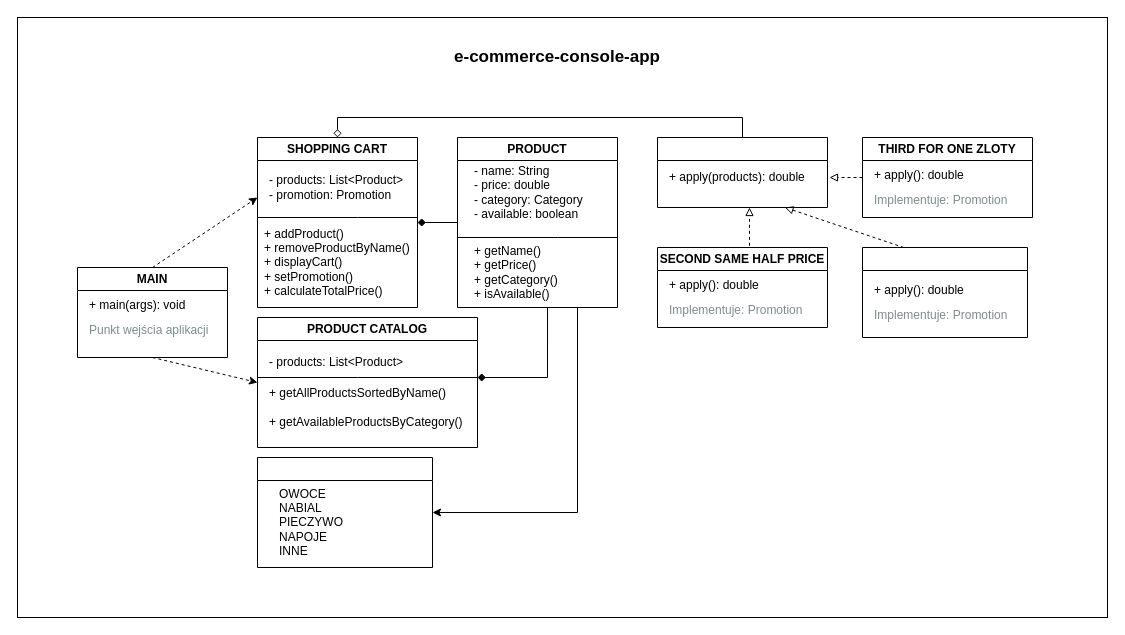
The diagram is 1125 pixels wide and 635 high, and some of its shapes have lost their labels. Here are the shapes that lost their labels. From the top down, the box of each, then its label:
(656, 136, 828, 208): PROMOTION
(862, 246, 1028, 338): TEN PERCENT DISCOUNT
(256, 456, 432, 568): CATEGORY
